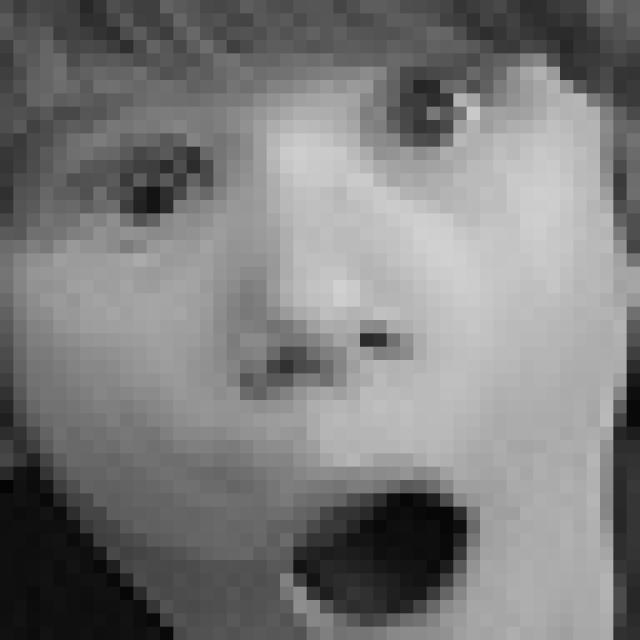surprise: (64, 41, 536, 640)
